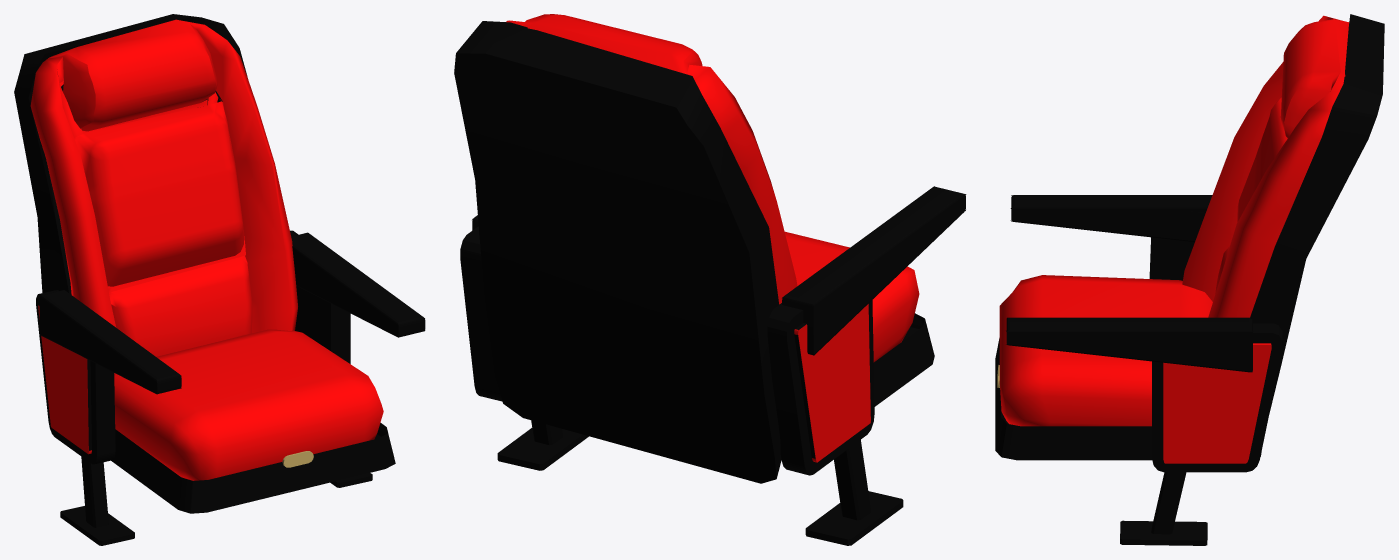
3 renders of one model, left to right at view 1: azimuth 30°, elevation 25°; view 2: azimuth 150°, elevation 25°; view 3: azimuth 270°, elevation 25°, orthographic. The views are drawn at different scales.
Visible parts, largest first — view 1: Cushion1, Cushion, pCube1, Support1, pCube2, SupportHandle1, SupportHandle, Support, pCube8, pCube9; view 2: pCube2, Support1, SupportHandle1, Cushion1, Cushion, Support, pCube1, pCube9, pCube8, pCube4; view 3: Cushion1, Cushion, Support, pCube2, SupportHandle, SupportHandle1, pCube1, pCube4, Support1, pCube3.
Boxes of the visible parts, x1,y1,x2,y2 form: Cushion1: (30, 19, 297, 373); Cushion: (114, 329, 383, 480); pCube1: (111, 422, 395, 513); Support1: (36, 290, 115, 464); pCube2: (14, 14, 247, 294); SupportHandle1: (39, 289, 181, 394); SupportHandle: (291, 232, 425, 337); Support: (290, 230, 350, 363); pCube8: (81, 456, 108, 527); pCube9: (60, 506, 134, 545); pCube2: (454, 21, 781, 483); Support1: (767, 300, 874, 475); SupportHandle1: (782, 186, 966, 355); Cushion1: (506, 14, 797, 304); Cushion: (784, 231, 919, 362); Support: (460, 226, 502, 401); pCube1: (873, 313, 934, 406); pCube9: (805, 491, 903, 545); pCube8: (834, 440, 871, 520); pCube4: (497, 428, 588, 470); Cushion1: (1182, 15, 1349, 317); Cushion: (999, 275, 1212, 426); Support: (1152, 323, 1282, 472); pCube2: (1250, 14, 1384, 456); SupportHandle: (1006, 317, 1253, 372); SupportHandle1: (1010, 195, 1212, 241); pCube1: (995, 338, 1152, 460); pCube4: (1120, 520, 1207, 545); Support1: (1149, 211, 1205, 280); pCube3: (1151, 472, 1186, 534).
Bounding box in the file's own units: 1.04 × 1.48 × 1.22.
